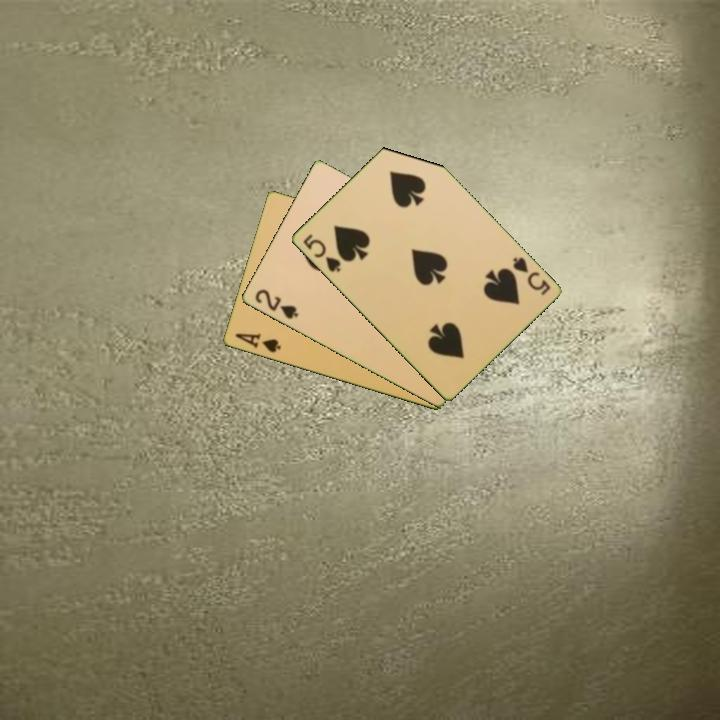2s: (251, 286, 301, 322)
5s: (299, 230, 343, 275), (509, 253, 553, 298)
As: (231, 330, 284, 356)
